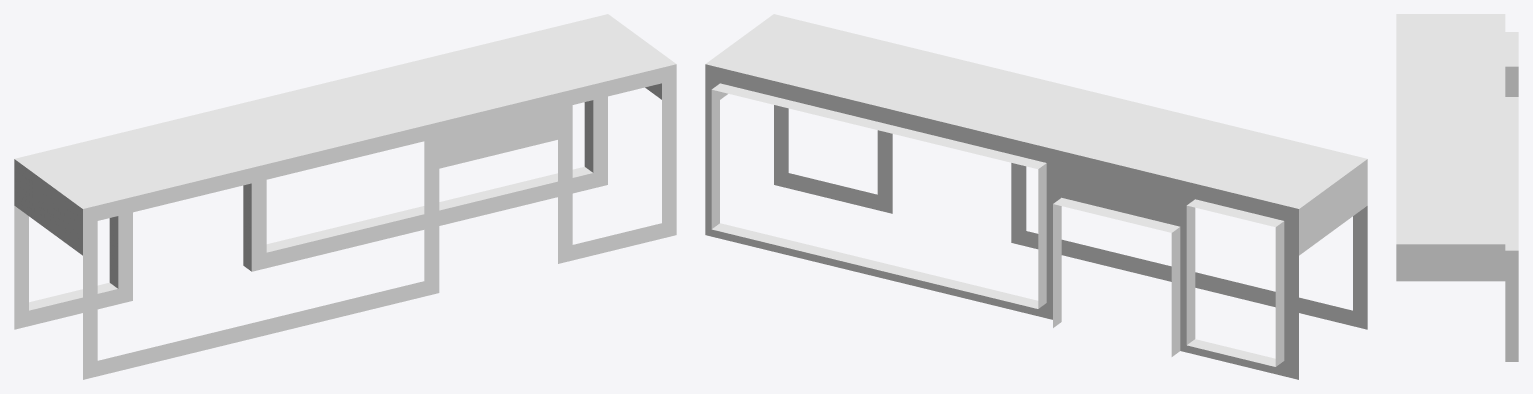
Rendered from Hall_02_Walls_Level_02.fbx.
3 views of the same model, side by side, from view 1: azimuth 30°, elevation 25°; view 2: azimuth 150°, elevation 25°; view 3: azimuth 270°, elevation 25° (orthographic). The views are drawn at different scales.
Visible parts, largest first — view 1: Hall_02; view 2: Hall_02; view 3: Hall_02.
Boxes of the visible parts, left/top/right/bottom form: Hall_02: left=14, top=14, right=676, bottom=379; Hall_02: left=705, top=14, right=1367, bottom=379; Hall_02: left=1396, top=14, right=1518, bottom=361.
Bounding box in the file's own units: 4000 × 1100 × 900.
